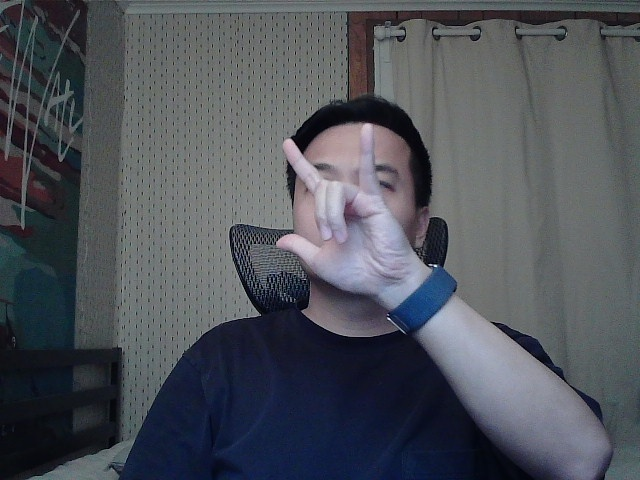I Love You: (252, 114, 443, 312)
